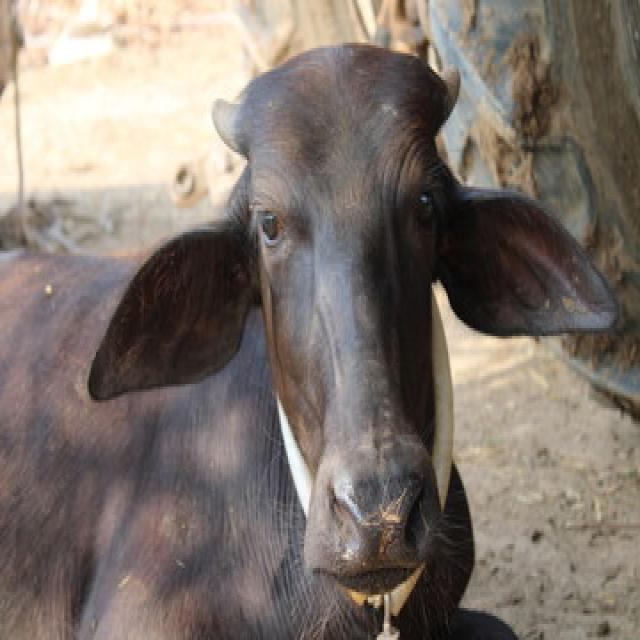Buffalo: (0, 38, 619, 638)
